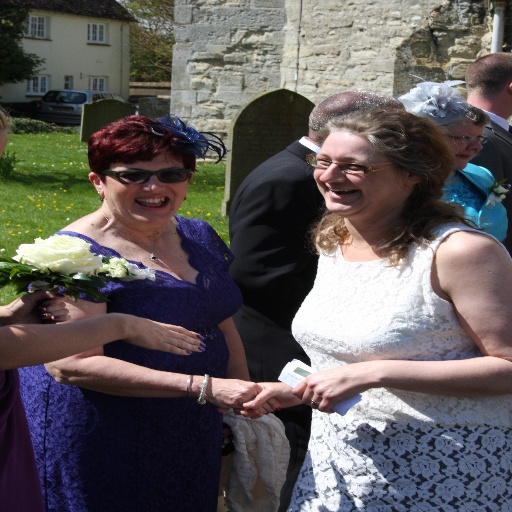hand: (110, 309, 204, 358), (291, 361, 379, 413), (206, 377, 282, 420), (210, 382, 303, 416), (0, 287, 74, 324)
